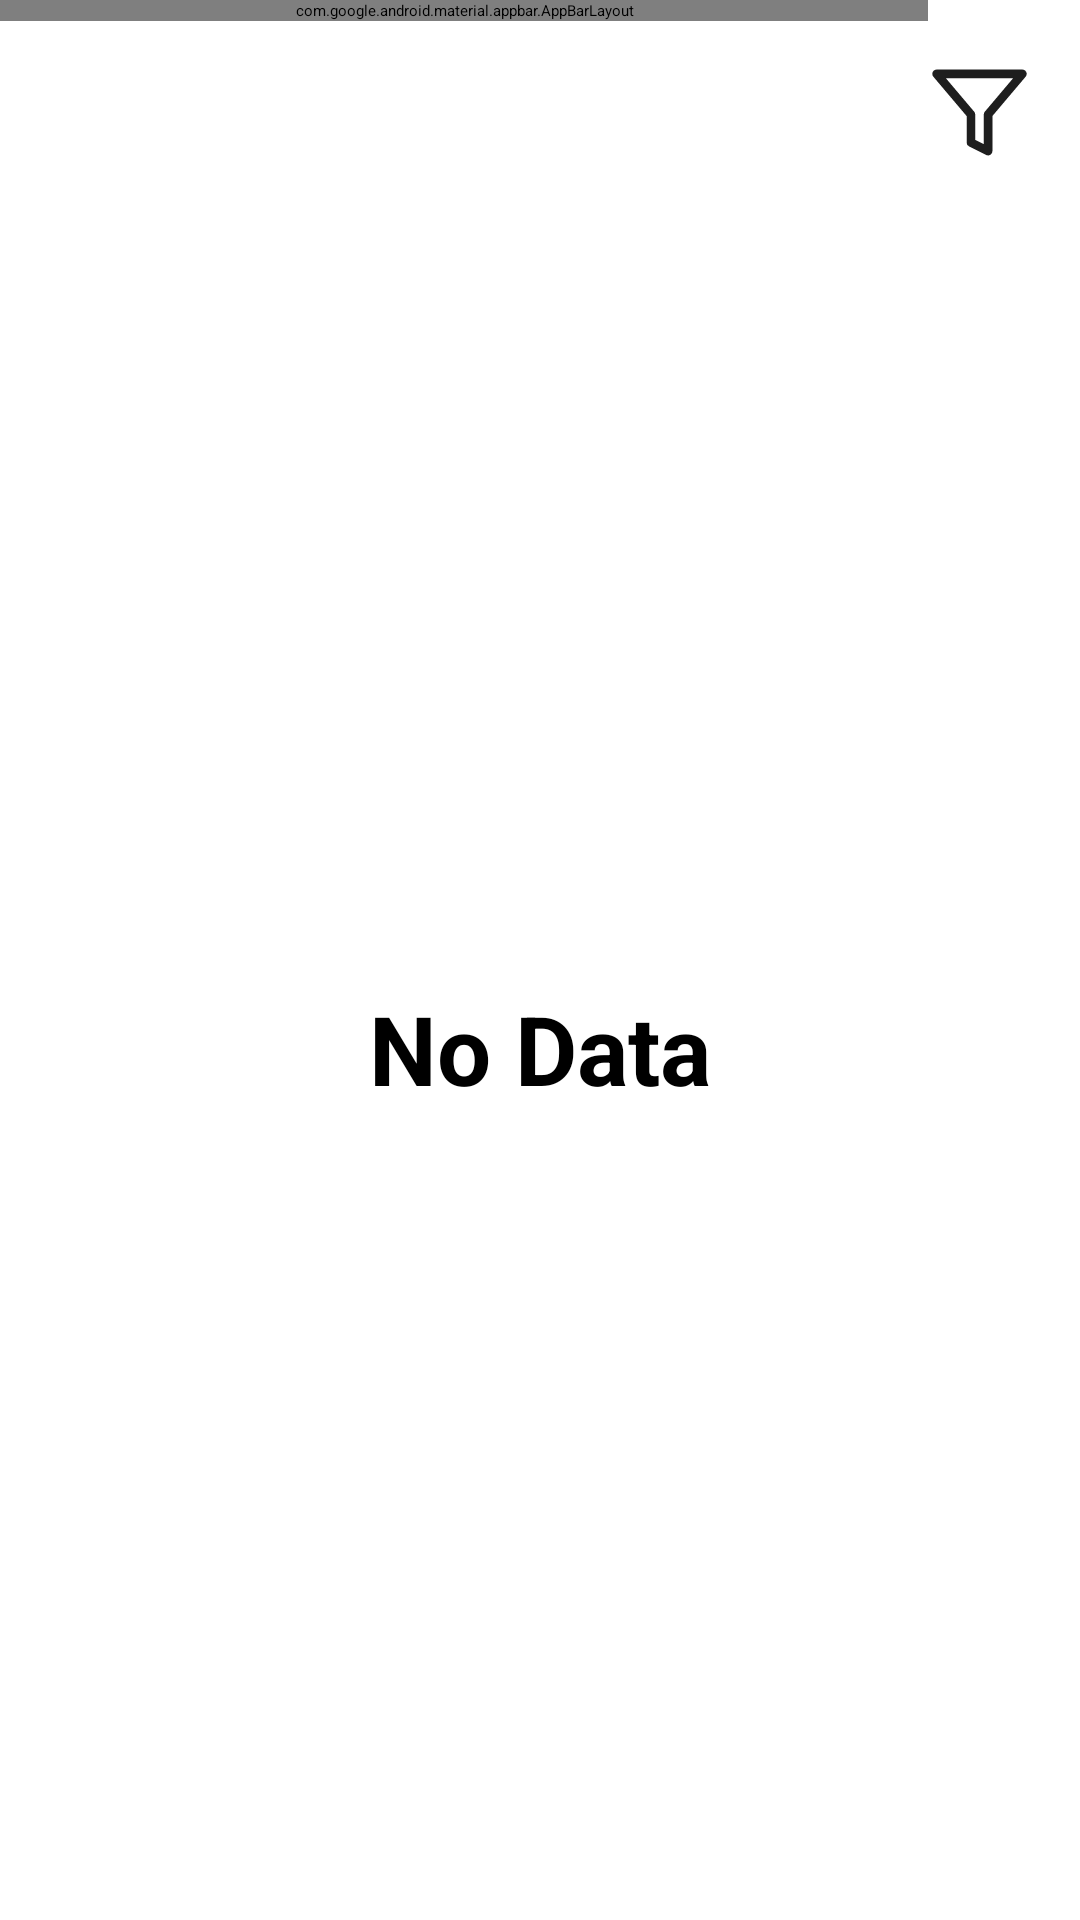

Screen size 1080*1920. Icon name, then its box in pixels as (x1, y1, x2, y2):
filter: (932, 69, 1027, 156)
